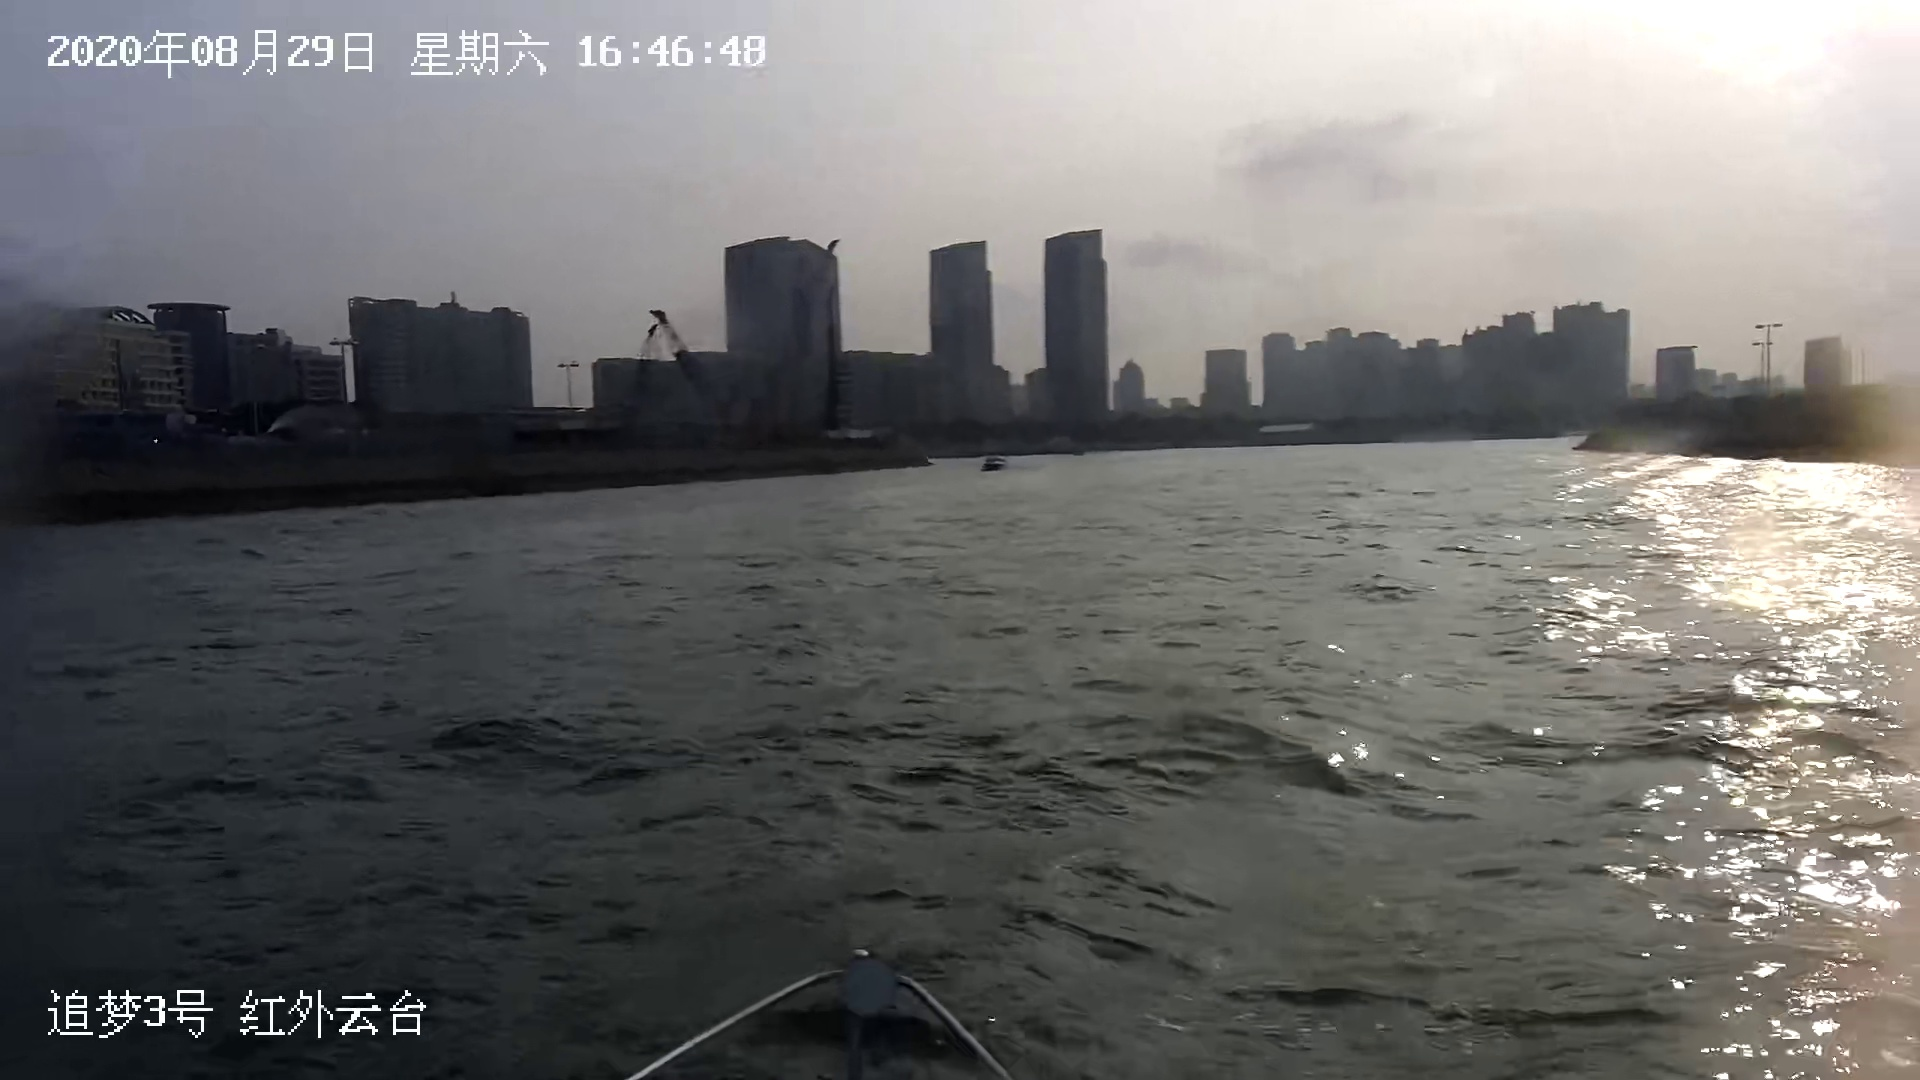barrier: (977, 452, 1011, 476)
coast: (1, 223, 1920, 516)
